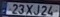2: (40, 4, 48, 15), (11, 3, 18, 14)
3: (17, 3, 25, 14)
4: (46, 5, 54, 16)
J: (32, 4, 40, 15)
X: (24, 4, 34, 15)
